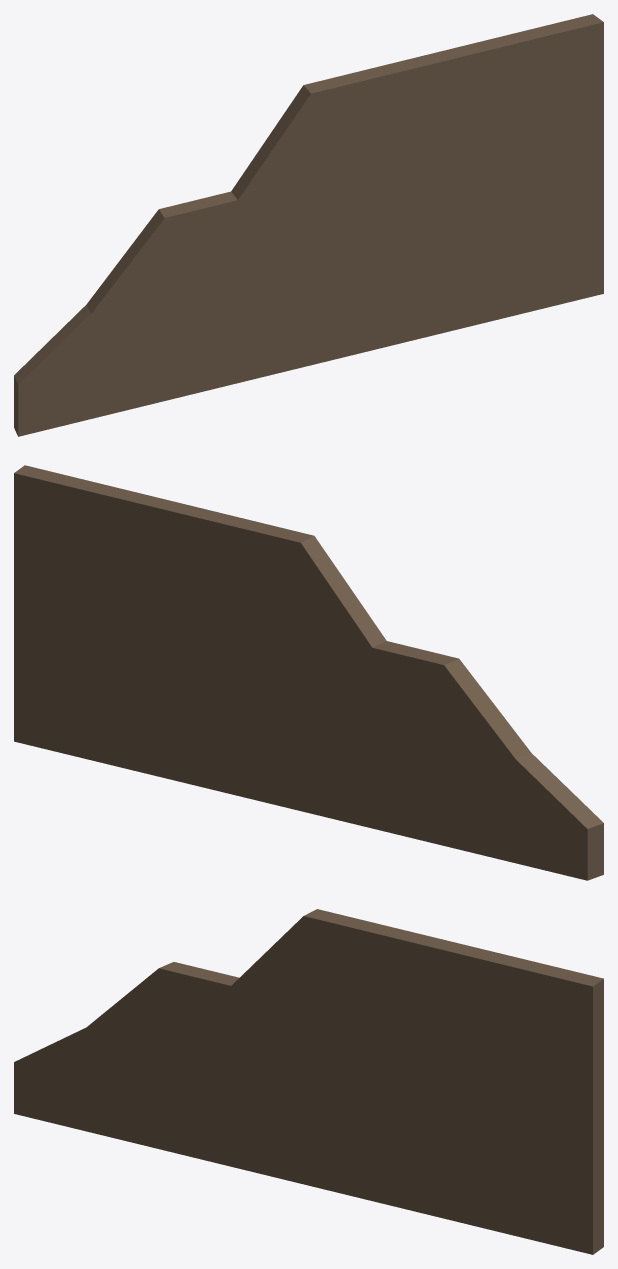
The picture shows the model from 3 angles, top to bottom: view 1: azimuth 30°, elevation 25°; view 2: azimuth 150°, elevation 25°; view 3: azimuth 330°, elevation 25°; orthographic projection.
Visible parts, largest first — view 1: Cube.056; view 2: Cube.056; view 3: Cube.056.
Part boxes in pixels (left/top/right/bottom): Cube.056: left=14, top=14, right=603, bottom=436; Cube.056: left=14, top=465, right=603, bottom=880; Cube.056: left=14, top=909, right=603, bottom=1254.
Bounding box in the file's own units: 2.9 × 1.28 × 0.096.
